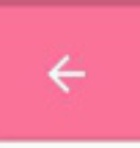ImgButton: (1, 1, 139, 147)
